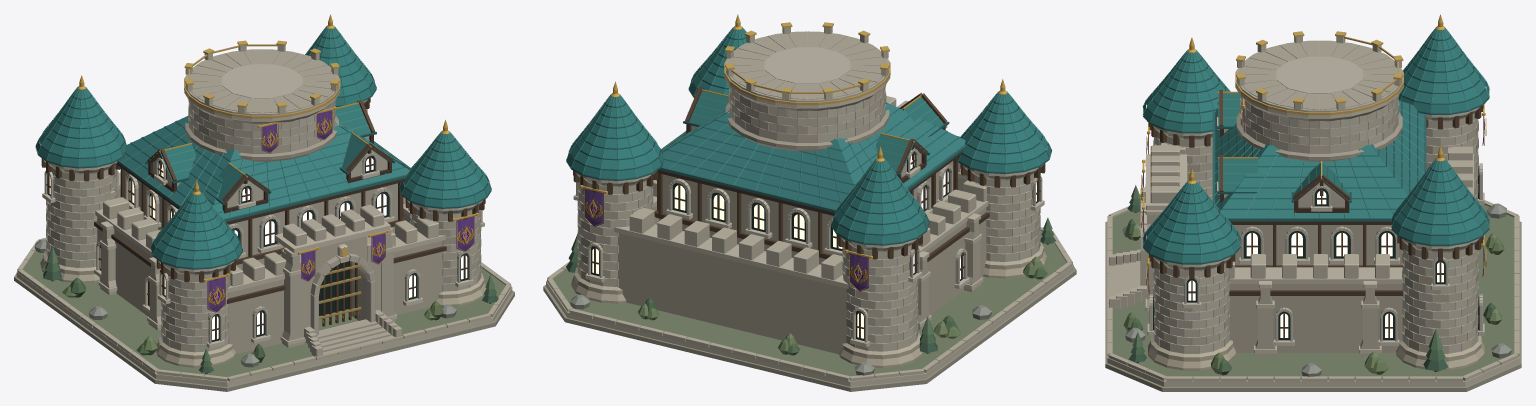
The picture shows the model from 3 angles, left to right: view 1: azimuth 30°, elevation 25°; view 2: azimuth 150°, elevation 25°; view 3: azimuth 270°, elevation 25°; orthographic projection. The views are drawn at different scales.
Visible parts, largest first — view 1: Castle / Limestone, Castle / Patina, Castle / Oak, Castle / Ground, Castle / Gilt, Castle / Violet, Castle / Recess, Castle / Foliage, Castle / Lantern; view 2: Castle / Limestone, Castle / Patina, Castle / Ground, Castle / Oak, Castle / Gilt, Castle / Foliage, Castle / Lantern, Castle / Recess, Castle / Violet; view 3: Castle / Limestone, Castle / Patina, Castle / Ground, Castle / Oak, Castle / Foliage, Castle / Gilt, Castle / Recess, Castle / Lantern.
Boxes of the visible parts, x1,y1,x2,y2 form: Castle / Limestone: (14, 45, 514, 391); Castle / Patina: (35, 26, 491, 269); Castle / Oak: (41, 98, 491, 373); Castle / Ground: (23, 251, 505, 376); Castle / Gilt: (77, 14, 478, 323); Castle / Violet: (207, 110, 474, 312); Castle / Recess: (47, 155, 468, 341); Castle / Foliage: (43, 246, 498, 372); Castle / Lantern: (49, 158, 467, 339); Castle / Limestone: (543, 27, 1076, 391); Castle / Patina: (566, 27, 1051, 245); Castle / Ground: (553, 231, 1066, 376); Castle / Oak: (573, 87, 1048, 353); Castle / Gilt: (580, 14, 1007, 291); Castle / Foliage: (566, 217, 1055, 355); Castle / Lantern: (592, 155, 1036, 338); Castle / Recess: (591, 151, 1039, 340); Castle / Violet: (584, 188, 868, 291); Castle / Limestone: (1105, 36, 1521, 391); Castle / Patina: (1142, 27, 1489, 264); Castle / Ground: (1112, 204, 1514, 379); Castle / Oak: (1134, 90, 1483, 371); Castle / Foliage: (1123, 185, 1504, 375); Castle / Gilt: (1140, 14, 1486, 294); Castle / Recess: (1153, 165, 1479, 340); Castle / Lantern: (1188, 191, 1443, 337).
Size of the model in its own units: 22 by 12.45 by 20.4.
Materials: 9 (1 with a texture image).
